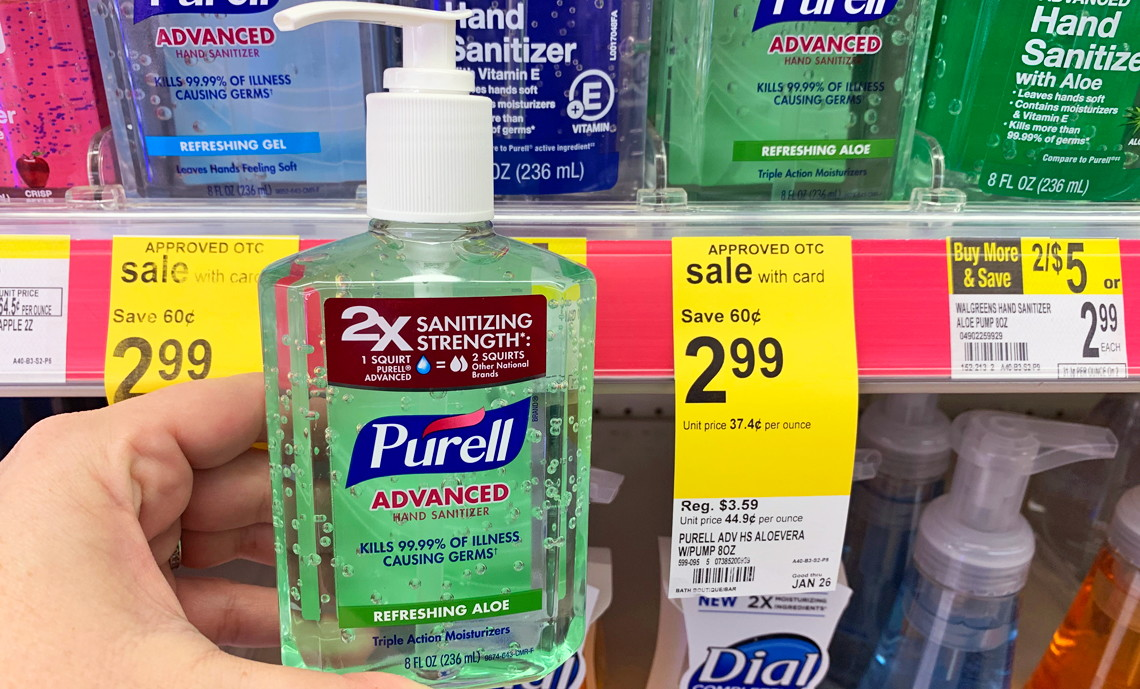Sanitizer: (248, 1, 606, 689), (78, 3, 398, 206), (362, 1, 675, 208), (640, 1, 939, 202), (915, 1, 1140, 208), (1, 3, 134, 190)
